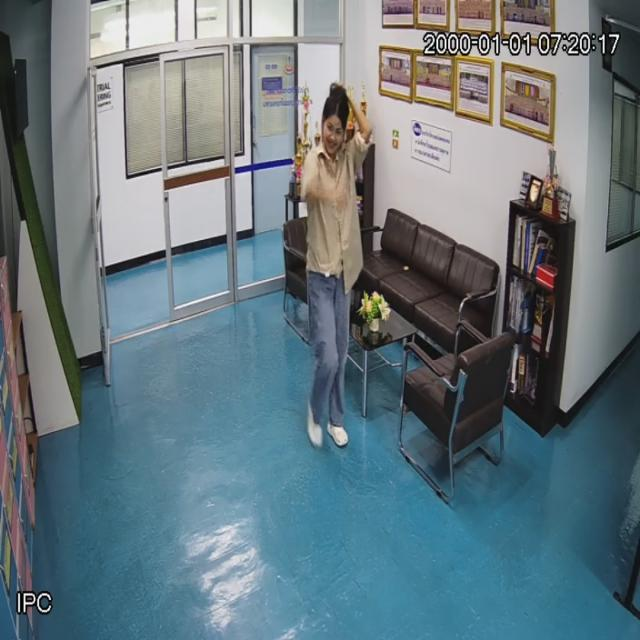normal: (300, 90, 366, 443)
